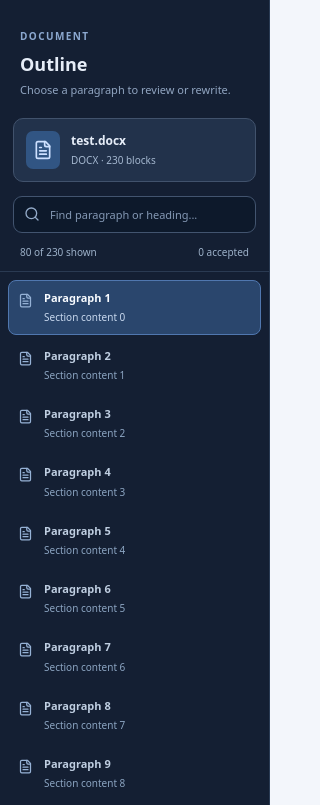
Test: large document navigation › searches the full document even when a result is past the current page
The image size is (320, 805).
Type "Section content 180" into the field named "find in document outline" at (146, 214), box 48,206 -> 245,223
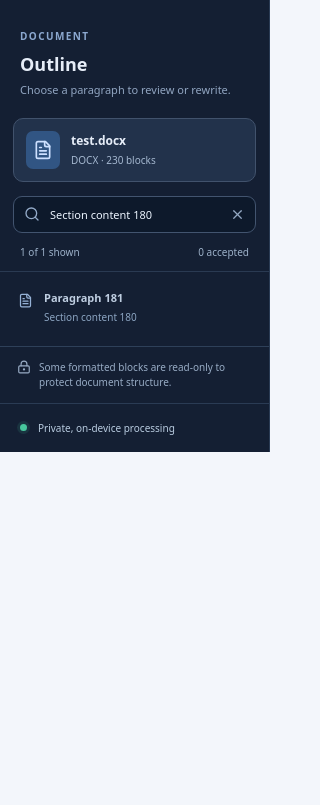
Expected: the text "Section content 180" is shown, 44,310 -> 137,324
Expected: the text "1 of 1 shown" is shown, 20,245 -> 80,259
